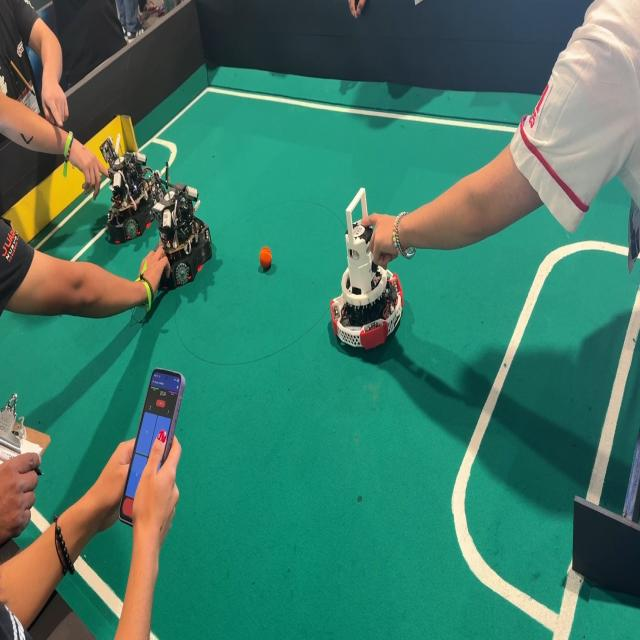Robot: (328, 181, 410, 367), (100, 118, 176, 247), (160, 192, 208, 280)
pelota: (258, 243, 277, 275)
